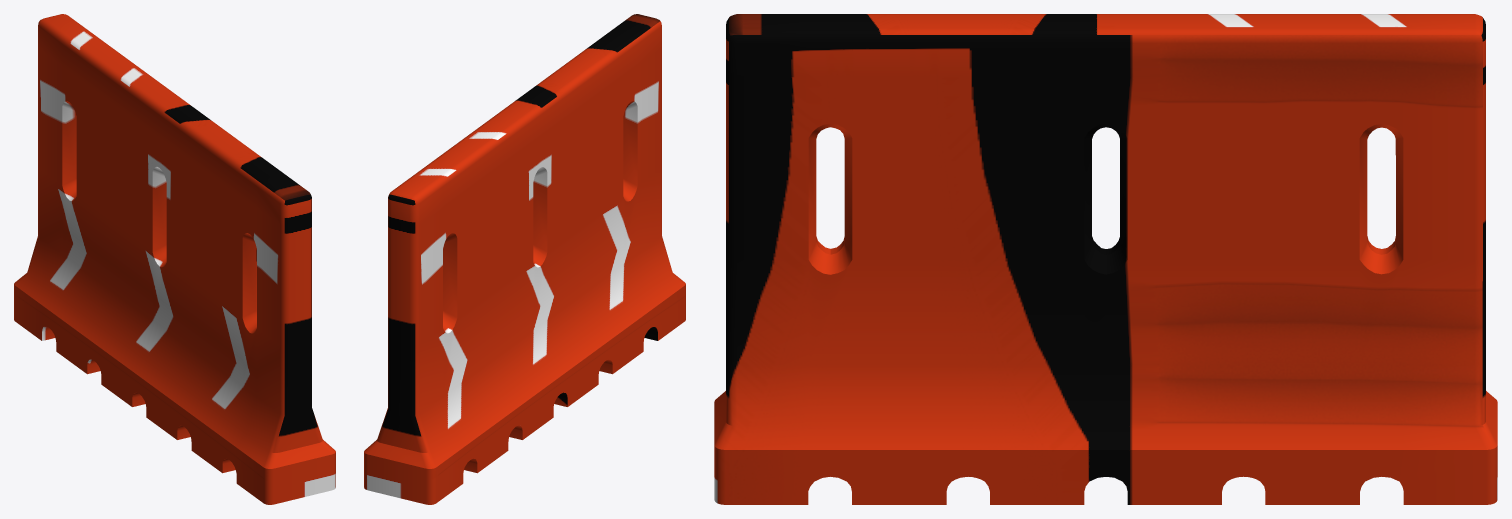
File: type 1.fbx
3 renders of one model, left to right at view 1: azimuth 30°, elevation 25°; view 2: azimuth 150°, elevation 25°; view 3: azimuth 270°, elevation 25°, orthographic. The views are drawn at different scales.
Parts seen in each view (by area): view 1: pc.001; view 2: pc.001; view 3: pc.001.
Part boxes in pixels (x1=…): pc.001: x1=14, y1=14, x2=335, y2=504; pc.001: x1=364, y1=14, x2=685, y2=504; pc.001: x1=714, y1=14, x2=1497, y2=504.
Bounding box in the file's own units: 59.41 × 370 × 238.
